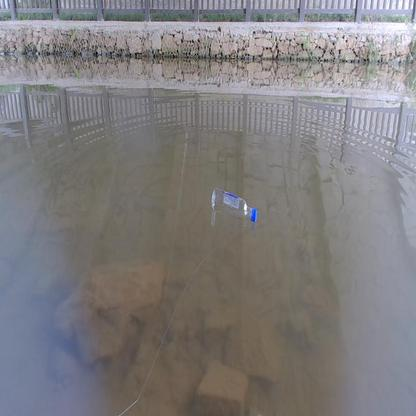plastic bottle: (210, 188, 257, 222)
